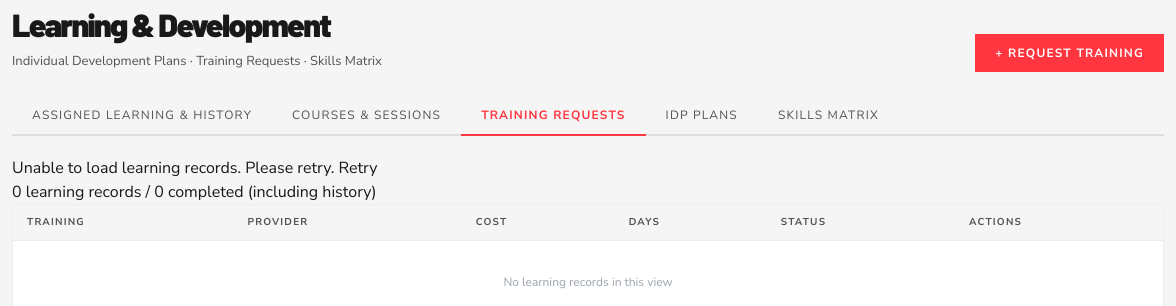
loading failure and retry recover cleanly
Expected: the message "Unable to load learning records. Please retry. Retry" is shown, [12,156,378,180]
Step 1. Click the button "Retry" → x=358, y=168, box [338,156,378,180]
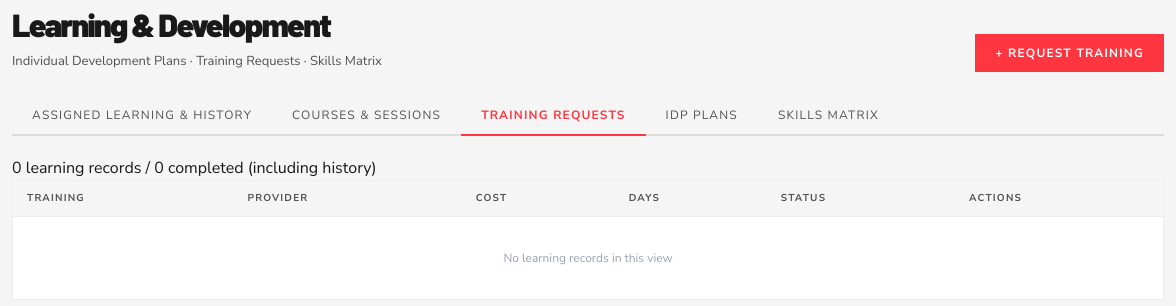
Result: the message "Unable to load learning records. Please retry. Retry" is gone
